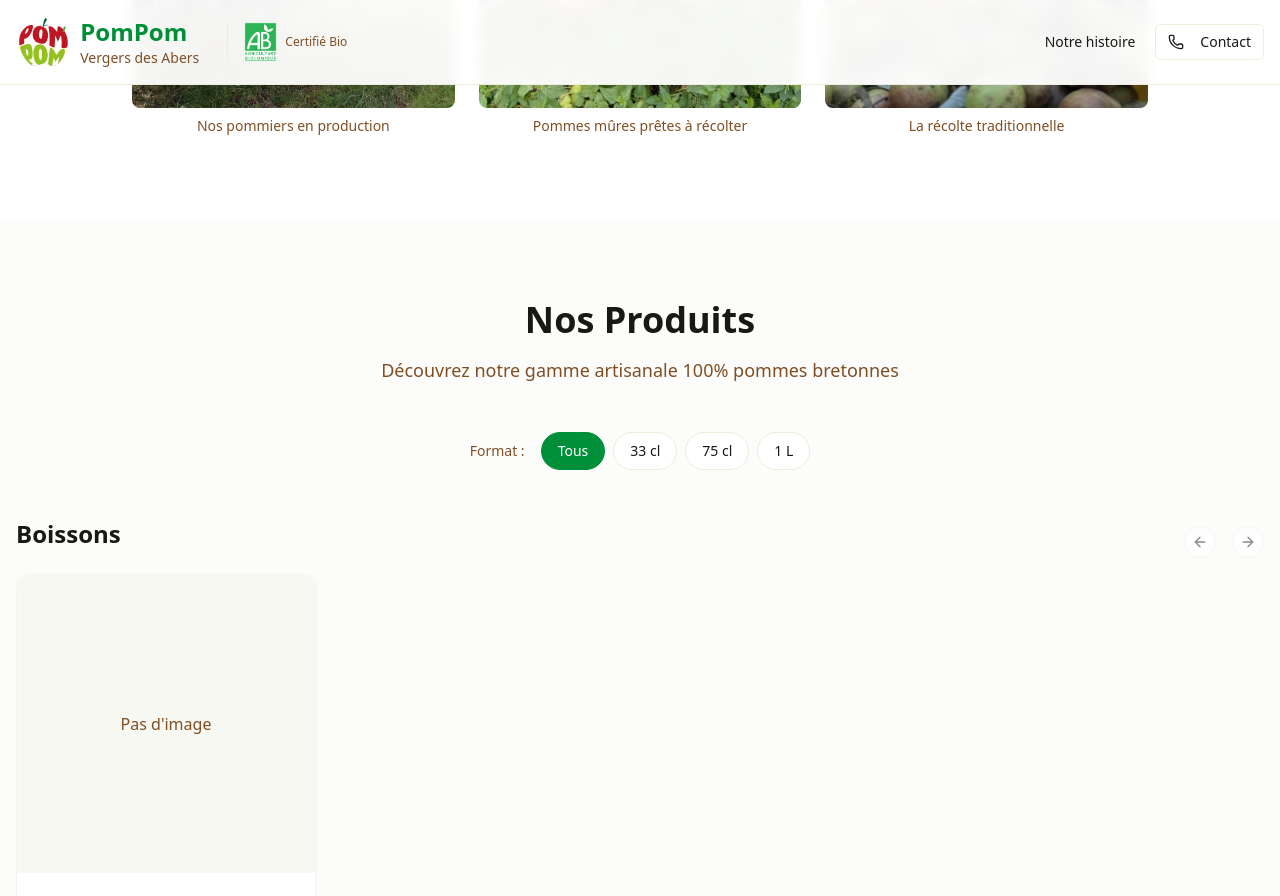
Test case: Page Index › Section produits › rend 2 ProductCard quand 2 produits sont retournés
This screenshot has width=1280, height=896.
(page scrolled)
Click the button "33 cl". click: (645, 451)
box: x1=613 y1=432 x2=677 y2=470
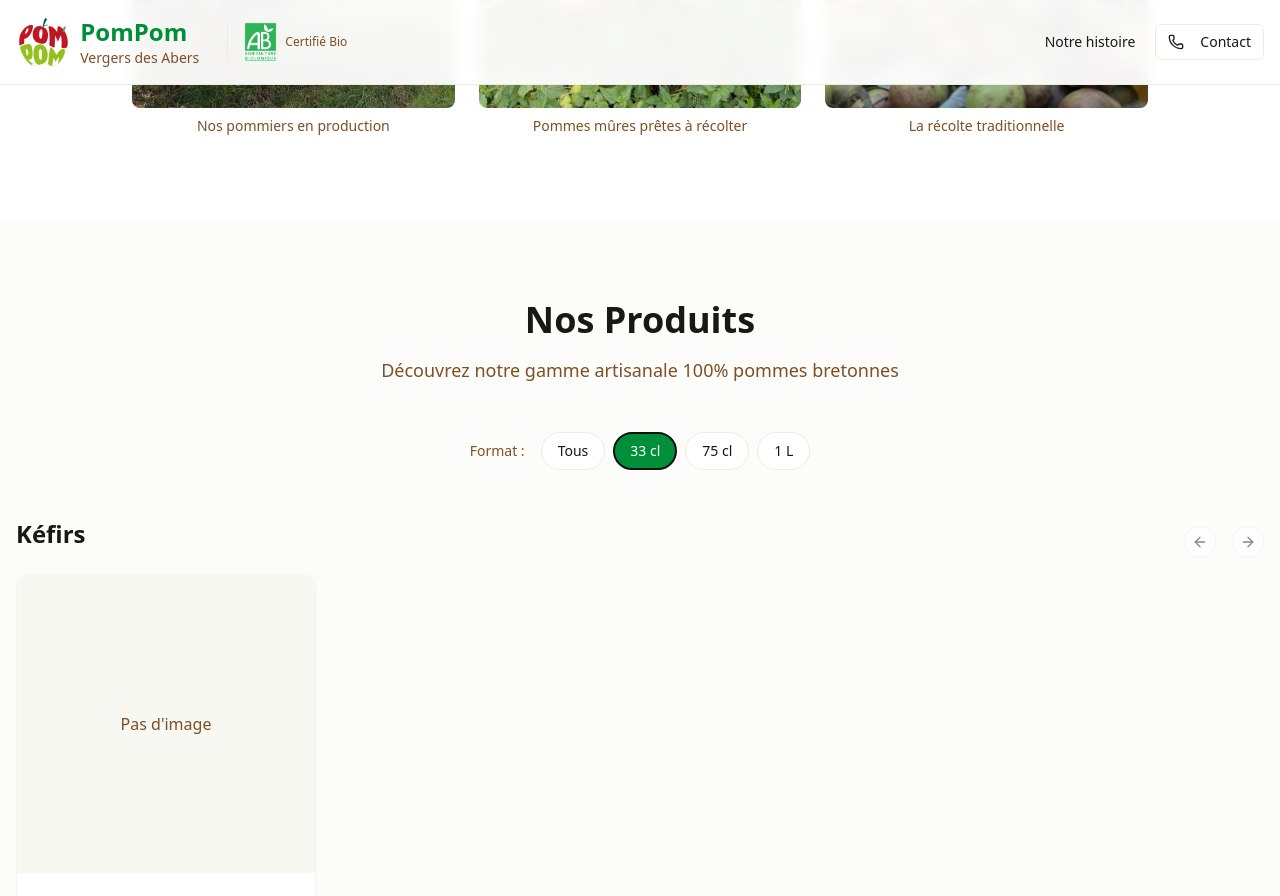
Check: the text "Jus de Pomme" is not shown
Click the button "Tous". click: (573, 451)
box: x1=541 y1=432 x2=605 y2=470
(page scrolled)
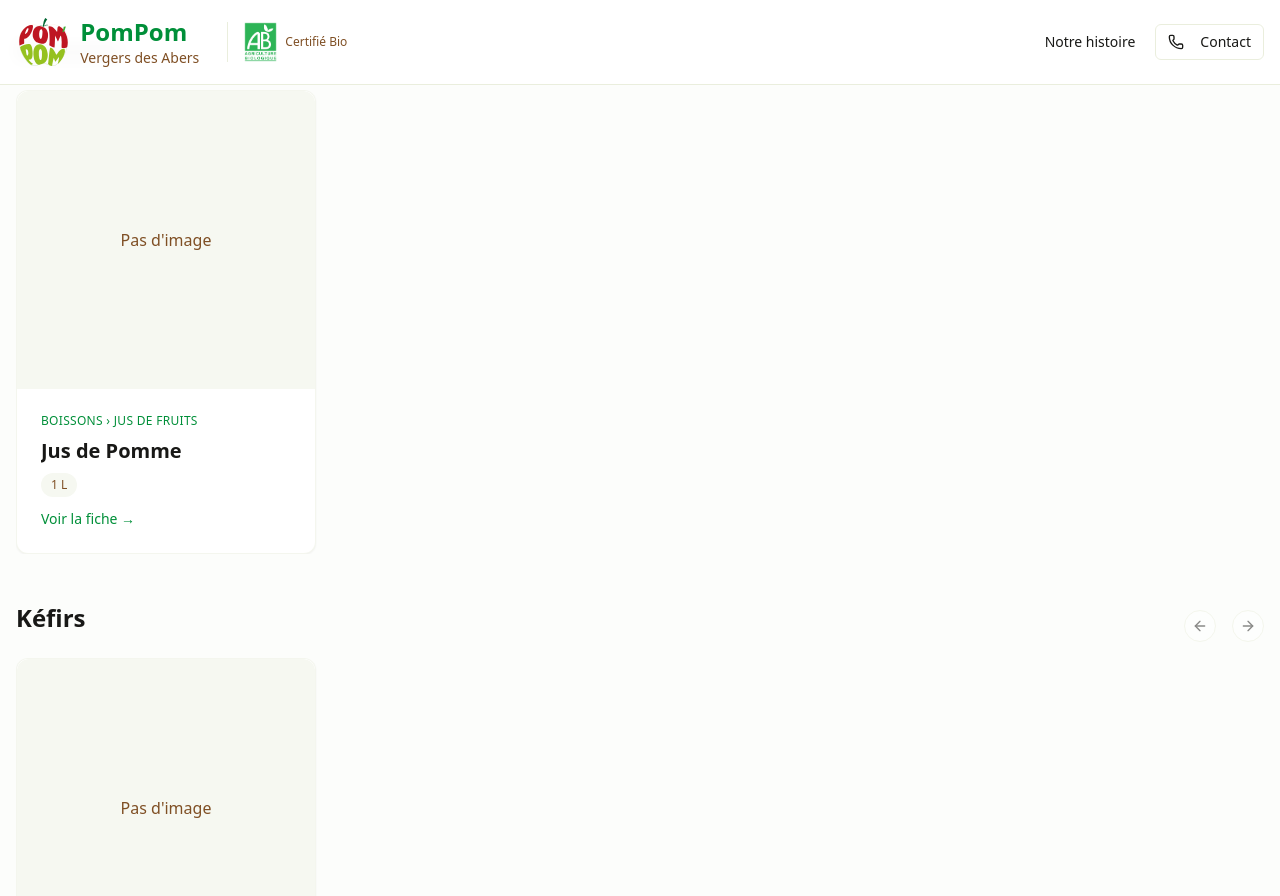
Check: the heading "Jus de Pomme" is shown, box x1=41 y1=437 x2=182 y2=464
